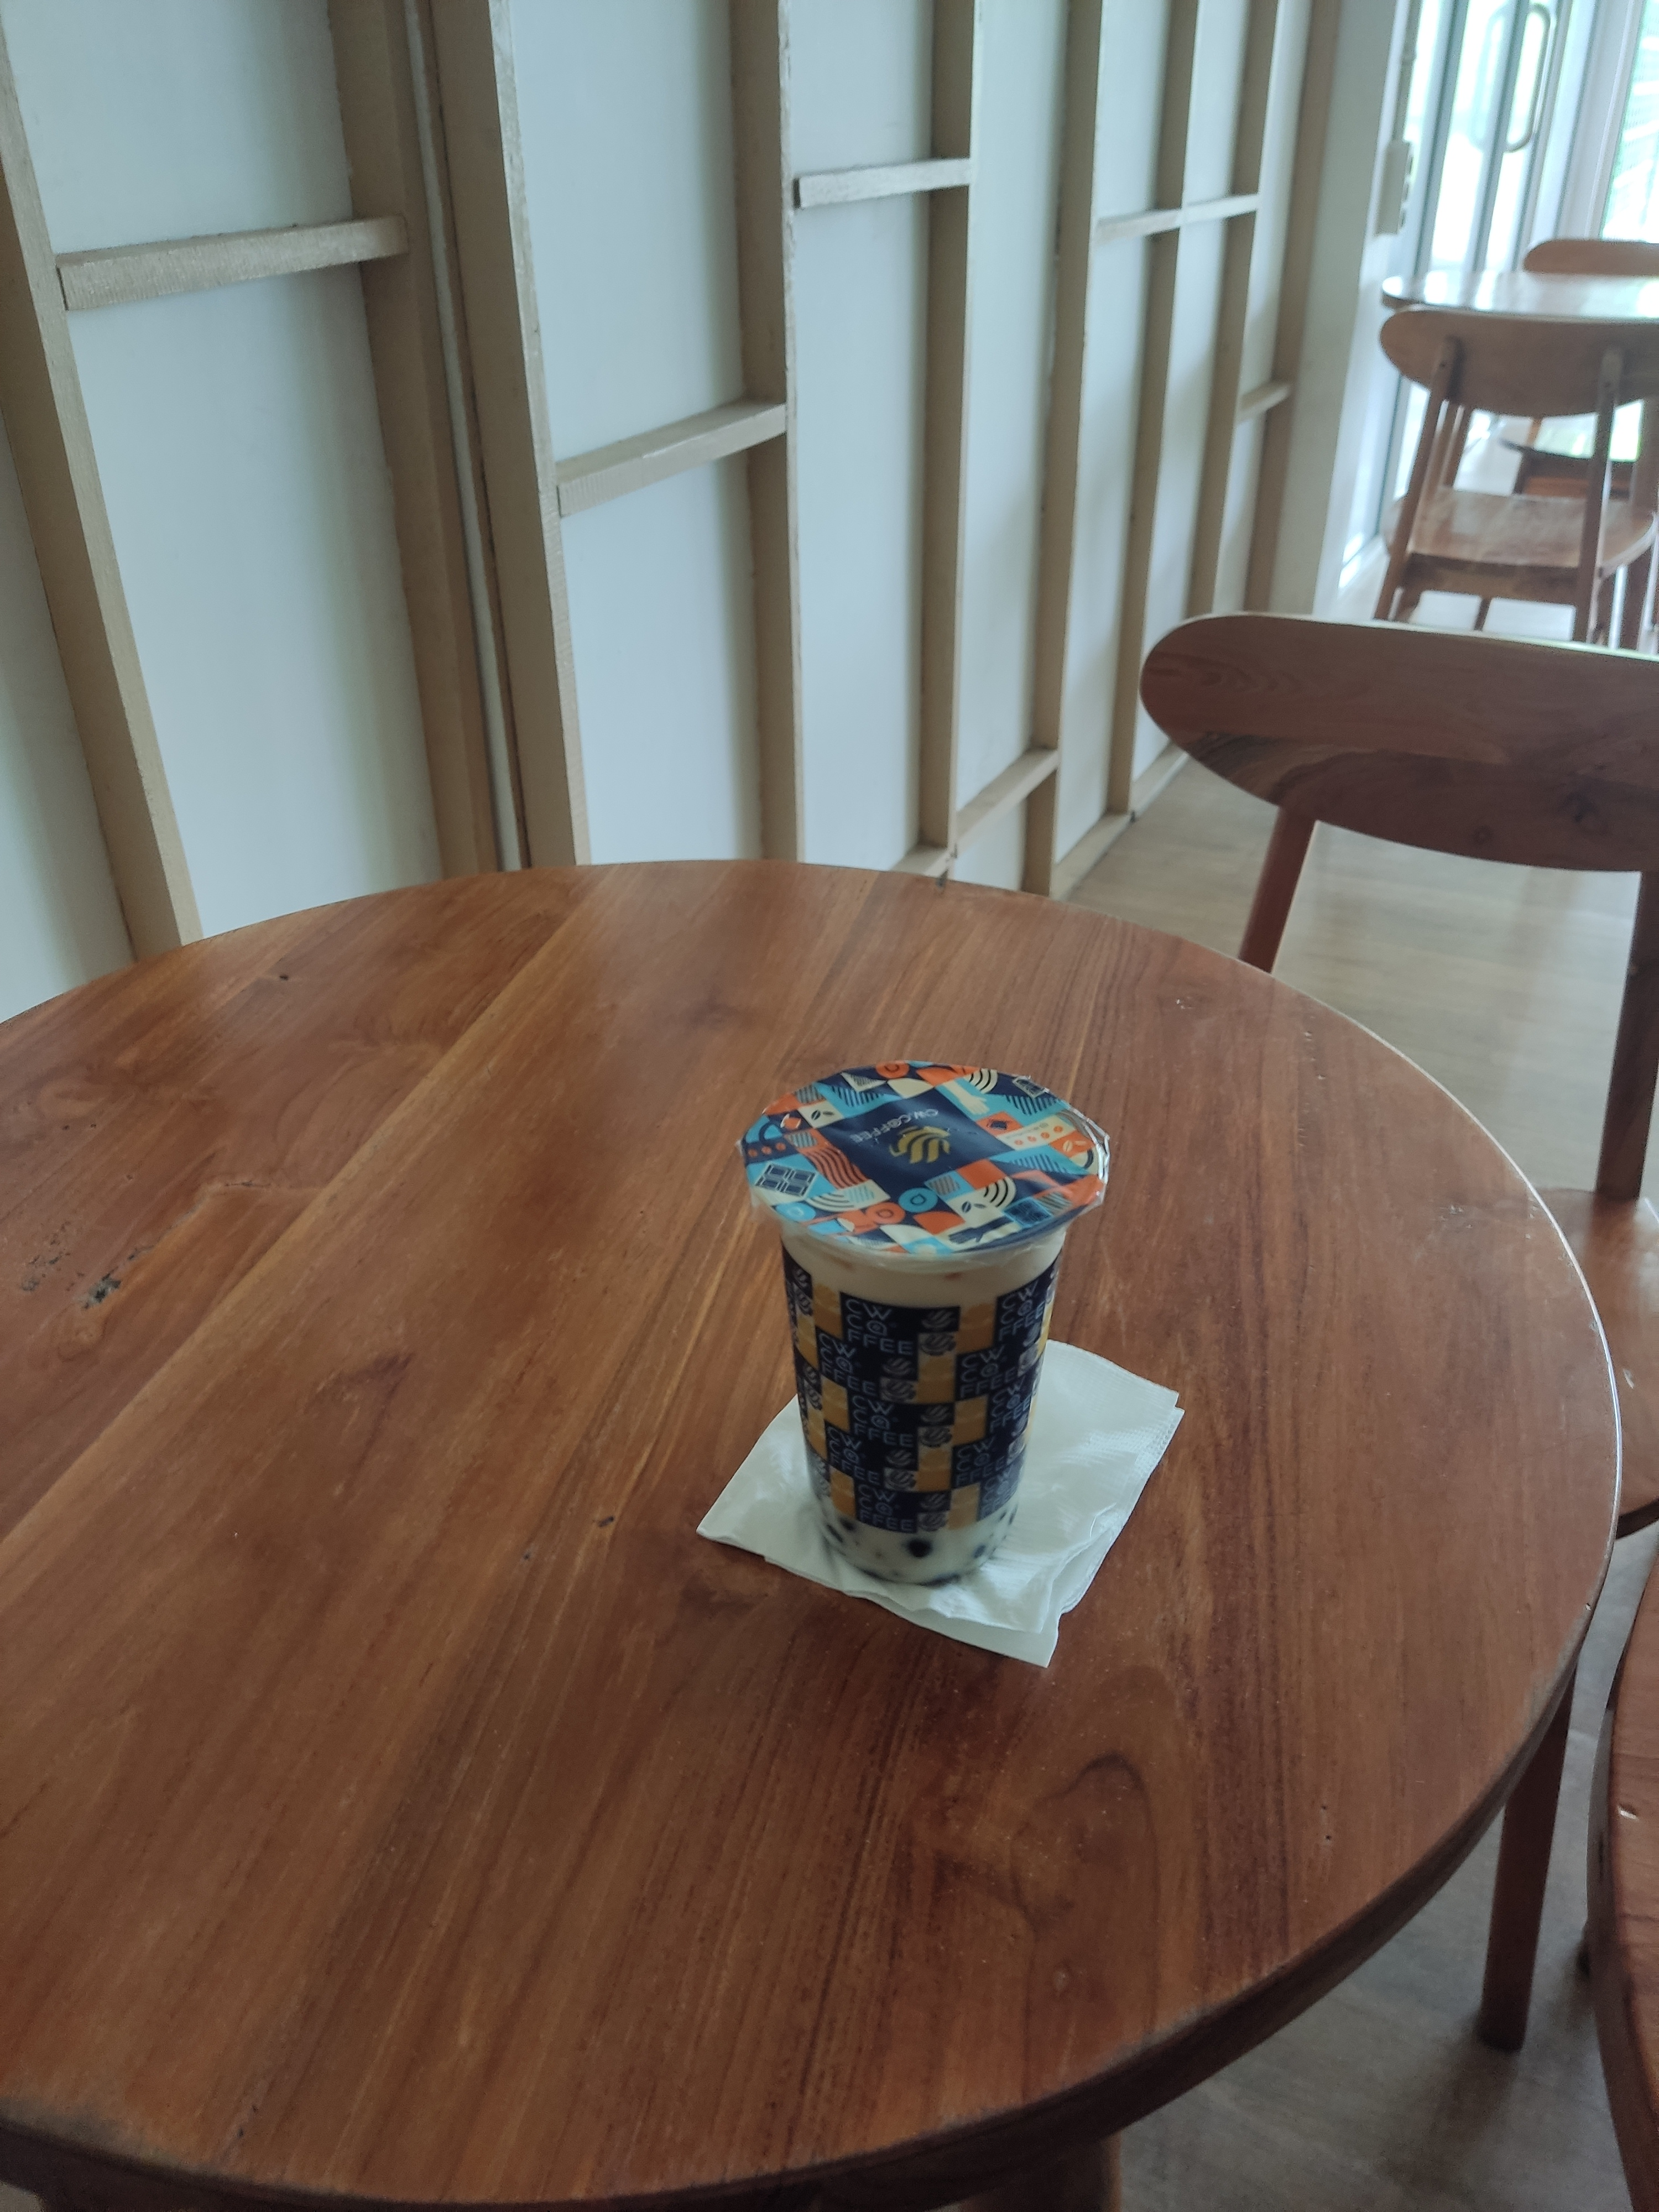Gelas CW: (741, 1062, 1110, 1587)
